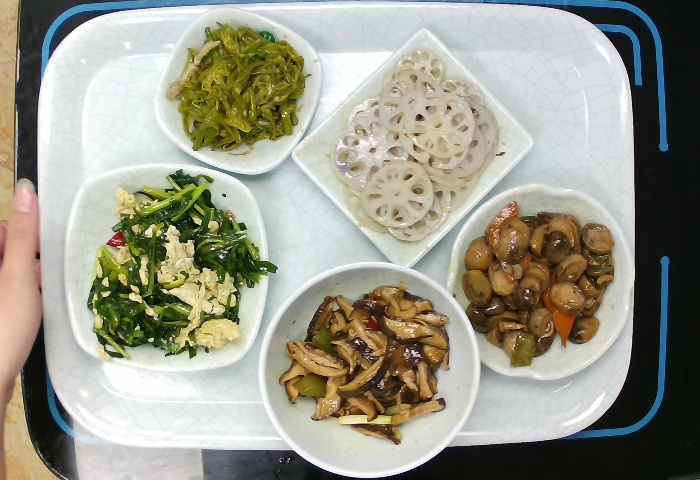JYsf-Ao_Yuan_Wan: (440, 181, 640, 389)
JYsf-Fan_Wan: (255, 256, 487, 480)
JYsf-Si_Fang_Die: (150, 2, 331, 178)
WCQzf-Da_Si_Fang_Die: (62, 158, 272, 375)
WCQzf-Ru_Ci_Si_Fang_Die: (292, 21, 539, 266)
